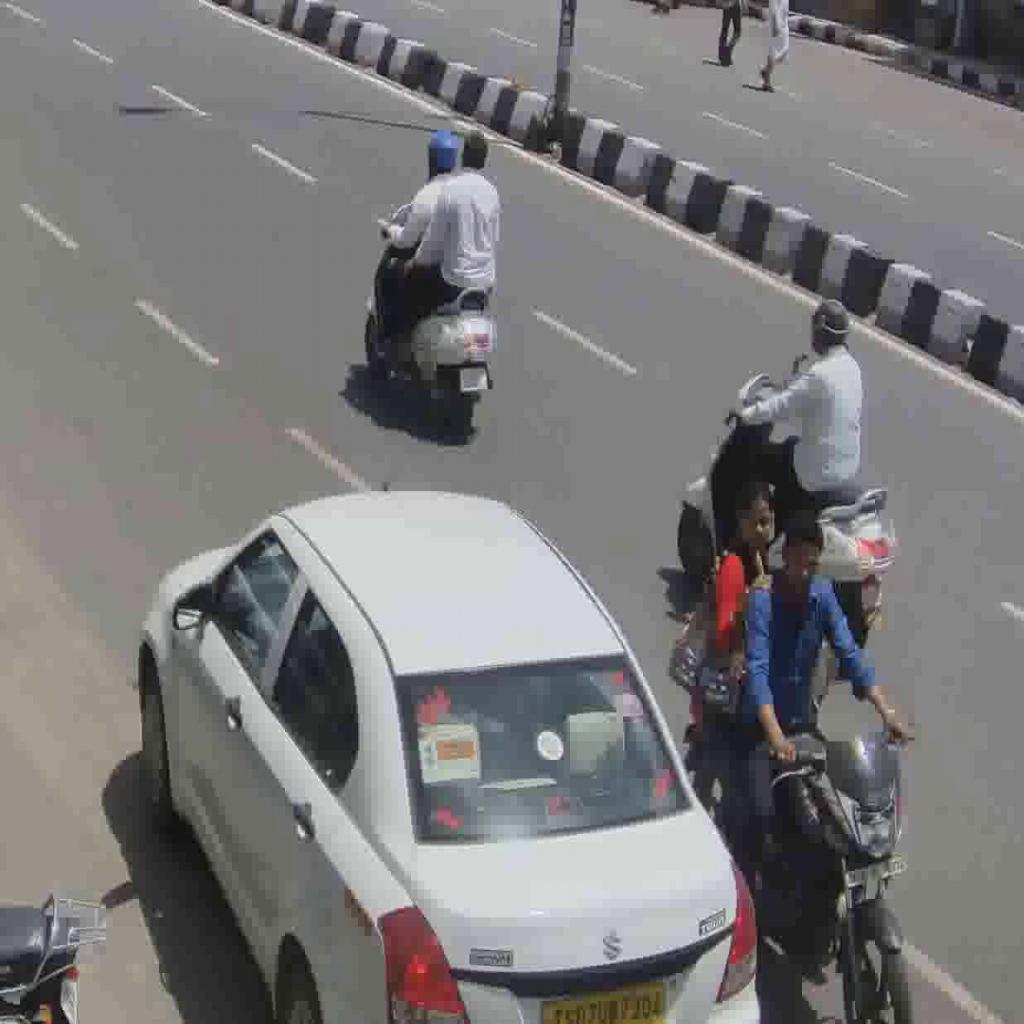helmet: (687, 713, 919, 1024), (676, 374, 904, 639), (366, 206, 501, 432)
